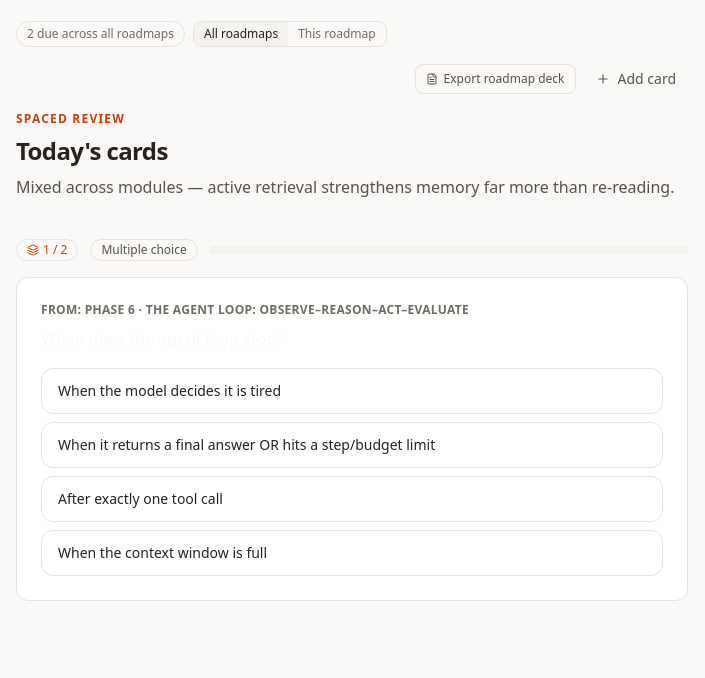
Test: Review page (Feature 5 & P0 multi-card session fix) › completes a multi-card review session without skipping cards or crashing when dueCards updates
This screenshot has width=705, height=678.
Expected: the button "All roadmaps" is shown, [194,22,288,46]
Expected: the button "This roadmap" is shown, [288,22,386,46]
# Select an option on Card 1, which grades and reveals the explanation
Click the button "When it returns a final answer OR hits a step/budget limit". click: (352, 445)
box: [41,422,663,468]
(page scrolled)
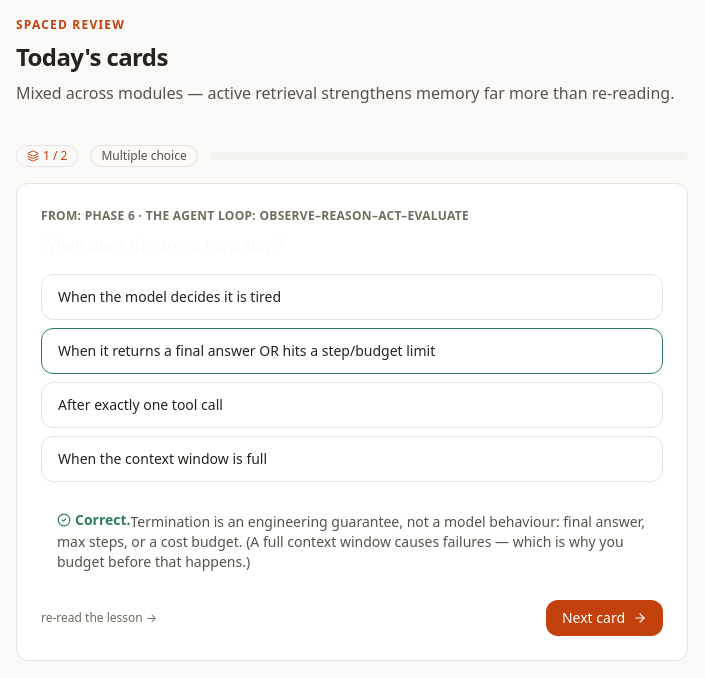
Click the button "Next card". click: (604, 618)
box: [546,600,663,636]
(page scrolled)
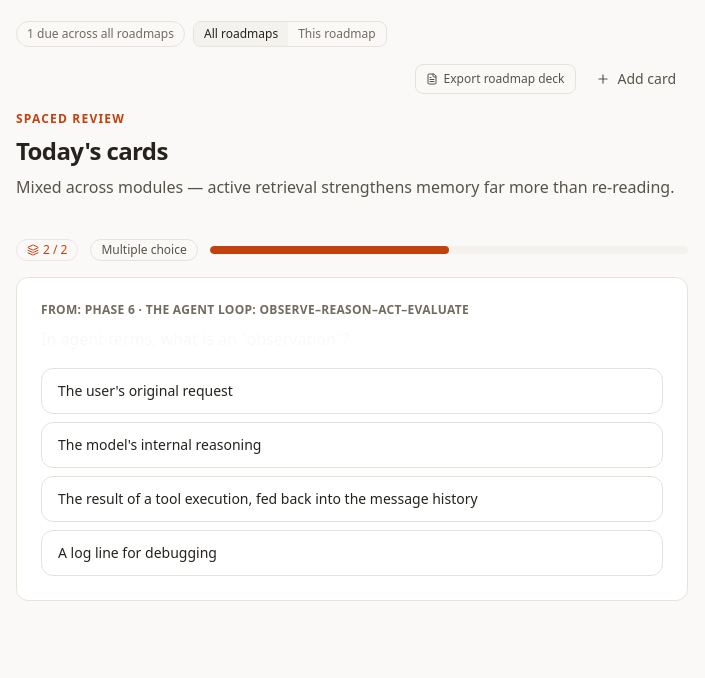
Expected: the text "2 / 2" is shown, [16,239,78,261]
Click the button "The user's original request". click: (145, 390)
box: [41,368,663,414]
(page scrolled)
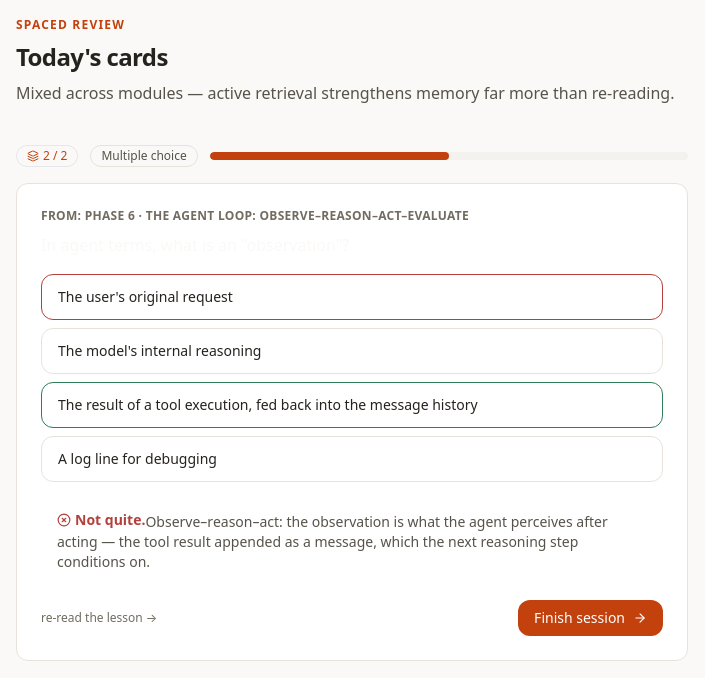
Click the button "Finish session". click: (591, 618)
box: [518,600,663,636]
(page scrolled)
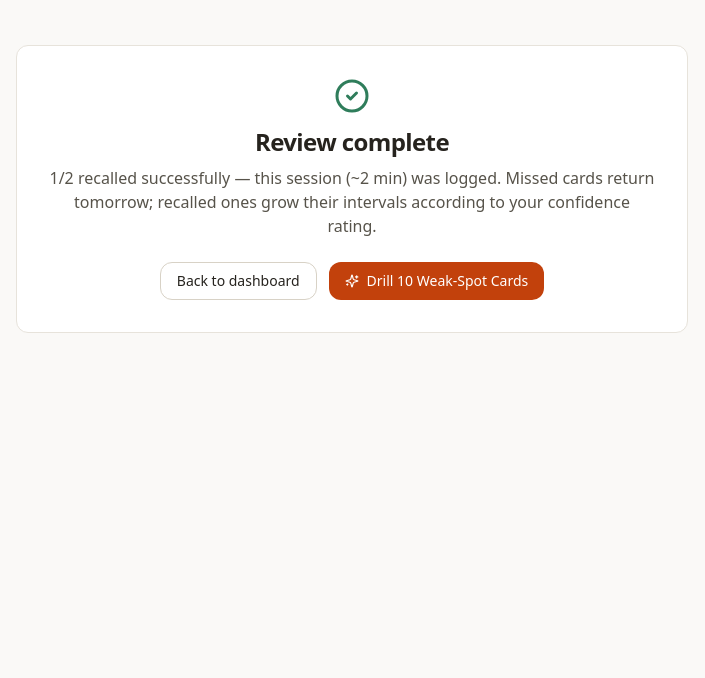
Expected: the heading "Review complete" is shown, [255,125,449,158]
